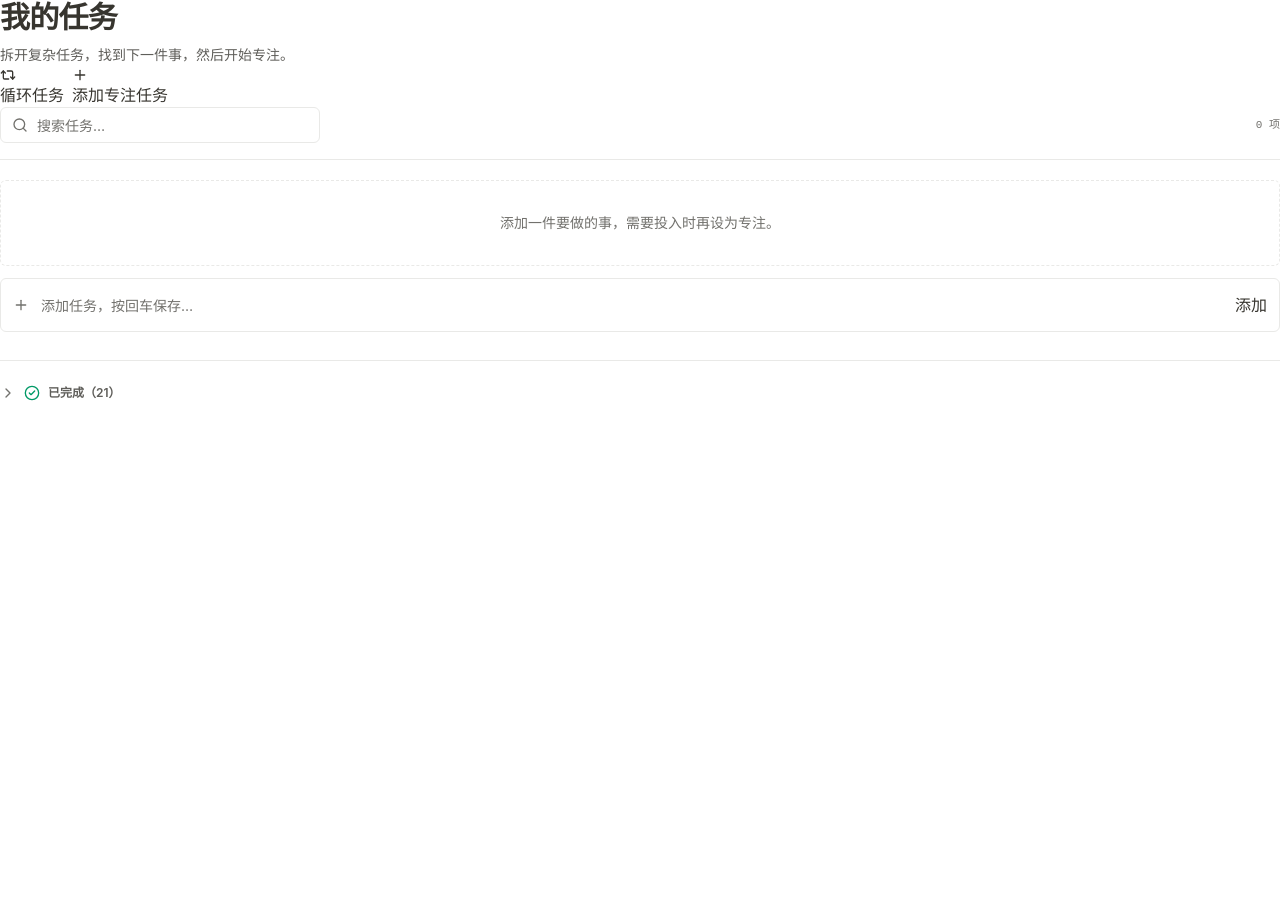
it: TasksList completed task disclosure › starts collapsed, then reveals the newest 20 and loads the remainder
Click the button "已完成（21）".
click(72, 392)  # box [0,381,1279,405]
(page scrolled)
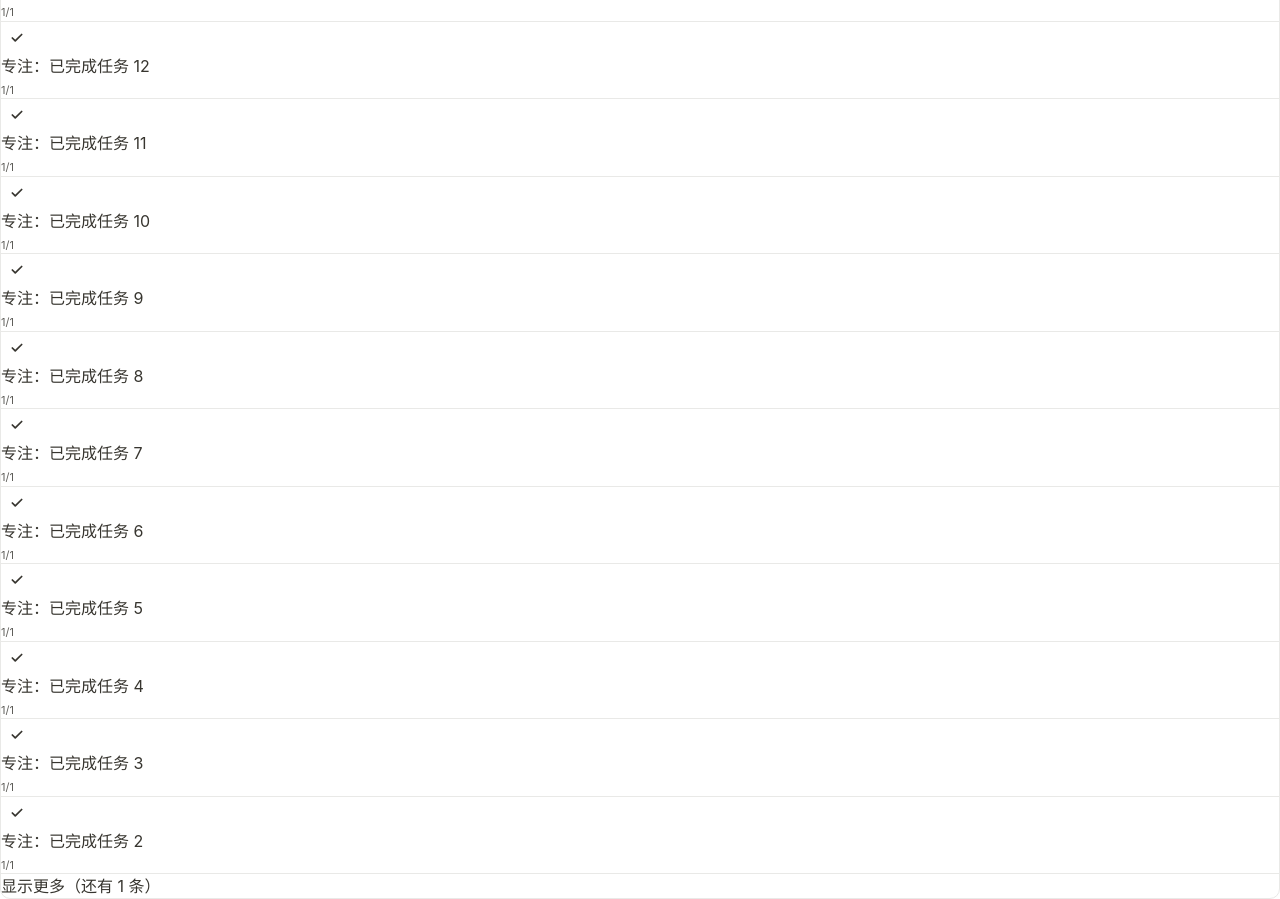
Click the button "显示更多（还有 1 条）".
click(81, 886)  # box [1,874,160,898]
(page scrolled)
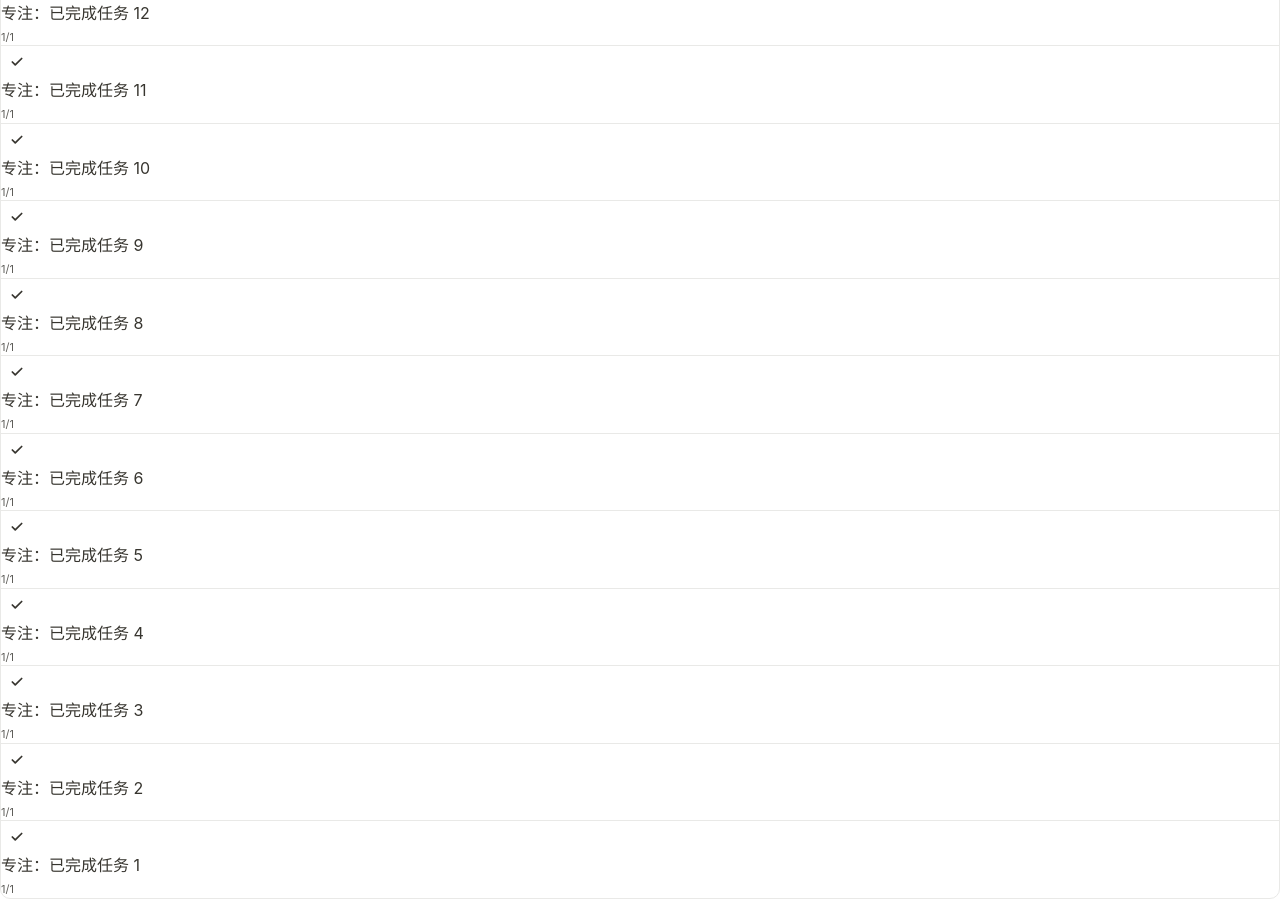
Result: the text "已完成任务 1" is shown at [49,855,140,875]
